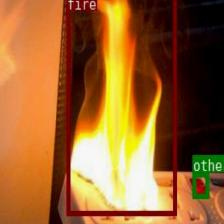fire: (66, 0, 176, 214)
